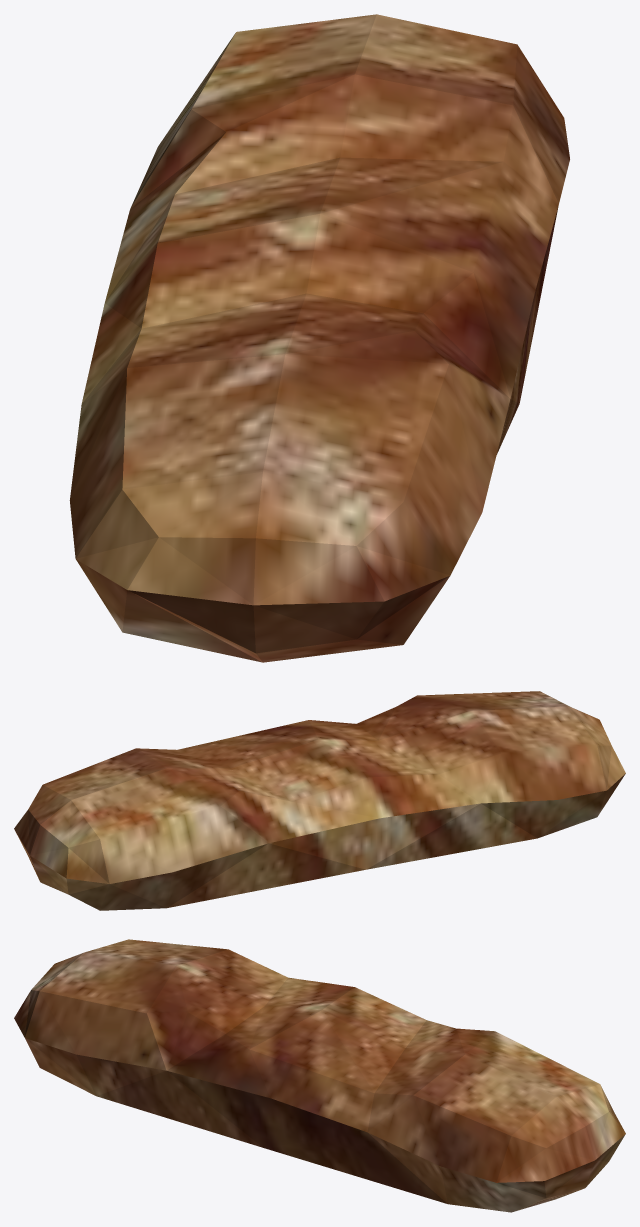
The model's file is ITFO_BREAD.glb.
The picture shows the model from 3 angles, top to bottom: view 1: azimuth 30°, elevation 25°; view 2: azimuth 150°, elevation 25°; view 3: azimuth 270°, elevation 25°; orthographic projection. The views are drawn at different scales.
Visible parts, largest first — view 1: ITFO_BREAD; view 2: ITFO_BREAD; view 3: ITFO_BREAD.
Part boxes in pixels (x1,y1,x2,y2): ITFO_BREAD: (69,14,569,662); ITFO_BREAD: (14,691,625,910); ITFO_BREAD: (14,939,625,1212).
Bounding box in the file's own units: 0.5208 × 0.15 × 0.6299.
1 material, 1 textured.
